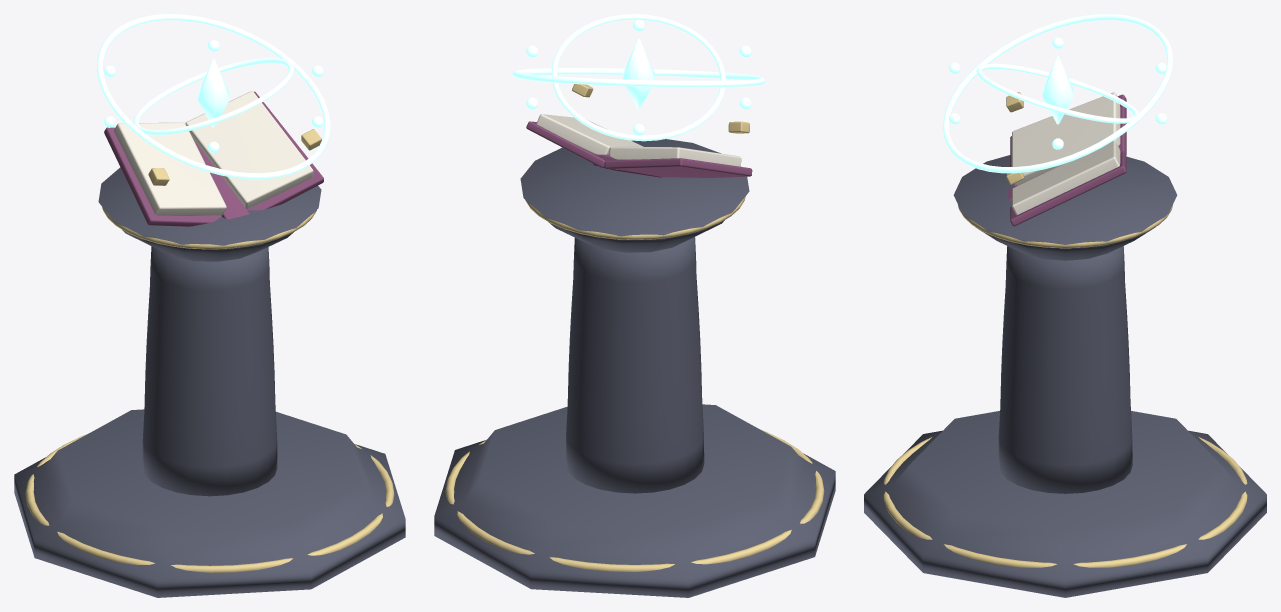
Rendered from webtoon-arcane-grimoire-magic-circle-pedestal-v15.glb.
The picture shows the model from 3 angles, left to right: view 1: azimuth 30°, elevation 25°; view 2: azimuth 150°, elevation 25°; view 3: azimuth 270°, elevation 25°; orthographic projection. The views are drawn at different scales.
Parts seen in each view (by area): view 1: GrimoireObsidianPedestal, GrimoireParchmentPages, GrimoireFloatingMagicCircle, GrimoireGoldClaspsAndRings, GrimoireLeatherBinding; view 2: GrimoireObsidianPedestal, GrimoireFloatingMagicCircle, GrimoireGoldClaspsAndRings, GrimoireParchmentPages, GrimoireLeatherBinding; view 3: GrimoireObsidianPedestal, GrimoireFloatingMagicCircle, GrimoireParchmentPages, GrimoireGoldClaspsAndRings, GrimoireLeatherBinding.
Part boxes in pixels (x1,y1,x2,y2): GrimoireObsidianPedestal: [14, 167, 405, 597]; GrimoireParchmentPages: [114, 91, 313, 215]; GrimoireFloatingMagicCircle: [97, 14, 330, 179]; GrimoireGoldClaspsAndRings: [25, 129, 394, 572]; GrimoireLeatherBinding: [104, 91, 323, 226]; GrimoireObsidianPedestal: [434, 139, 835, 597]; GrimoireFloatingMagicCircle: [512, 14, 764, 141]; GrimoireGoldClaspsAndRings: [445, 84, 824, 572]; GrimoireParchmentPages: [536, 114, 741, 166]; GrimoireLeatherBinding: [526, 121, 752, 177]; GrimoireObsidianPedestal: [864, 155, 1266, 597]; GrimoireFloatingMagicCircle: [943, 14, 1172, 173]; GrimoireParchmentPages: [1012, 92, 1120, 215]; GrimoireGoldClaspsAndRings: [883, 92, 1247, 567]; GrimoireLeatherBinding: [1008, 94, 1126, 226].
Size of the model in its own units: 1.08 by 1.37 by 1.08.
